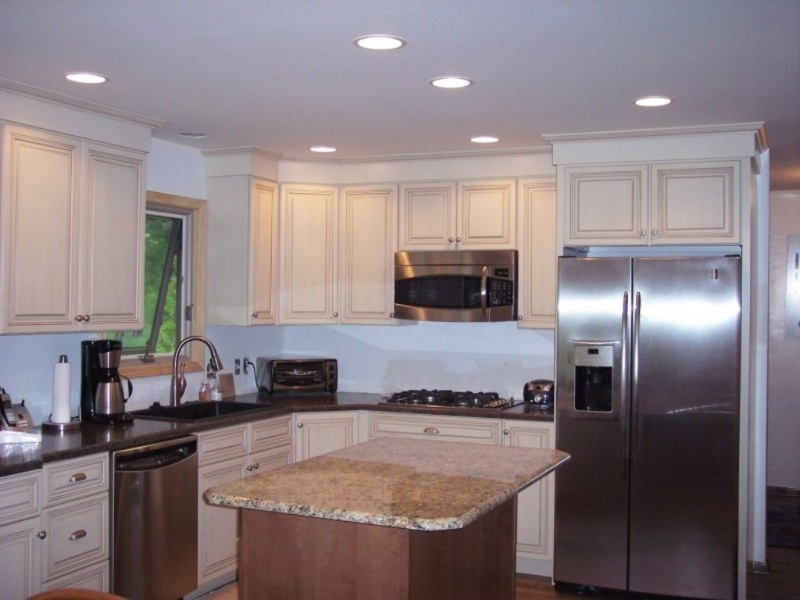refrigerator: (549, 252, 741, 598)
